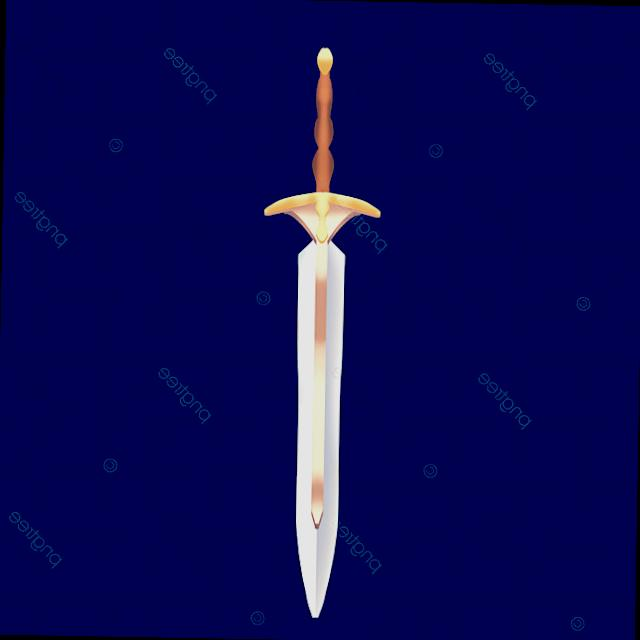long sword: (244, 40, 390, 626)
